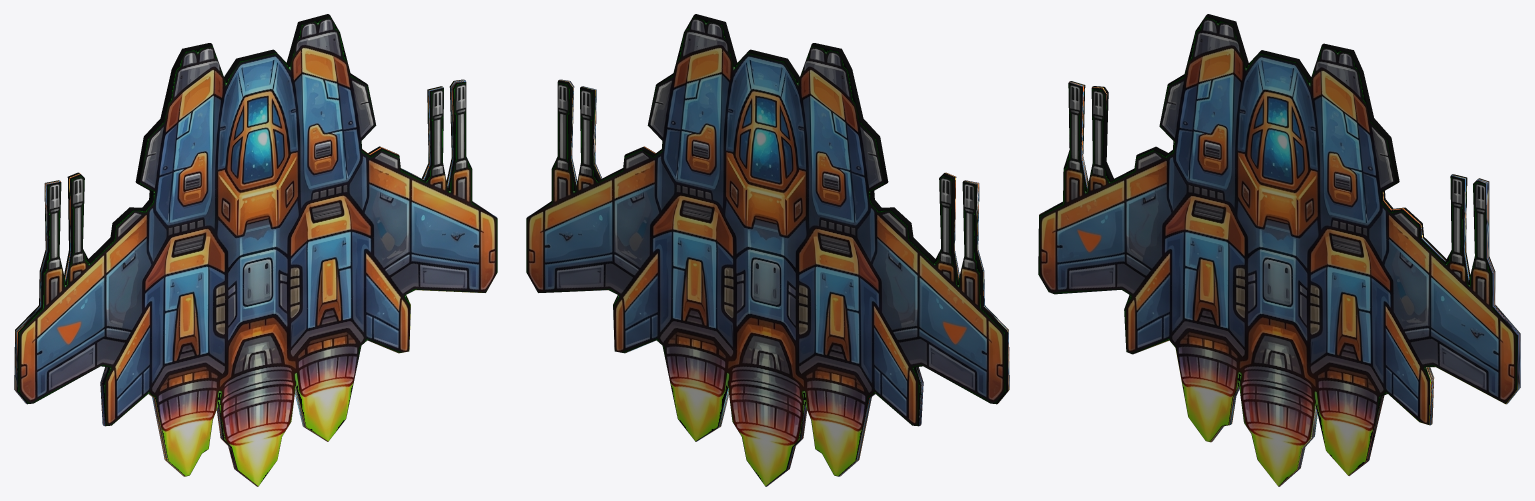
File: Ship1.glb
3 renders of one model, left to right at view 1: azimuth 30°, elevation 25°; view 2: azimuth 150°, elevation 25°; view 3: azimuth 330°, elevation 25°, orthographic.
Size of the model in its own units: 0.7601 by 0.6863 by 0.01.
2 materials, 2 textured.
